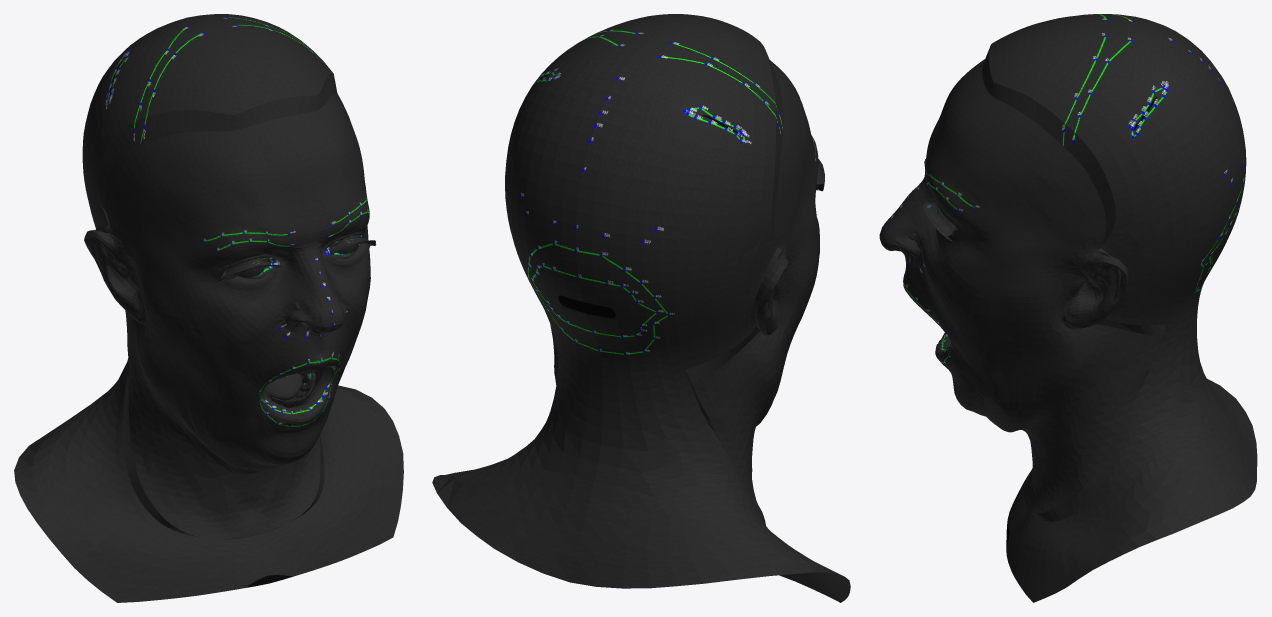
Rendered from ict_mediapipe_textured.obj.
3 renders of one model, left to right at view 1: azimuth 30°, elevation 25°; view 2: azimuth 150°, elevation 25°; view 3: azimuth 270°, elevation 25°, orthographic. The views are drawn at different scales.
Size of the model in its own units: 1.02 by 1.38 by 0.9253.
1 material, 1 textured.
